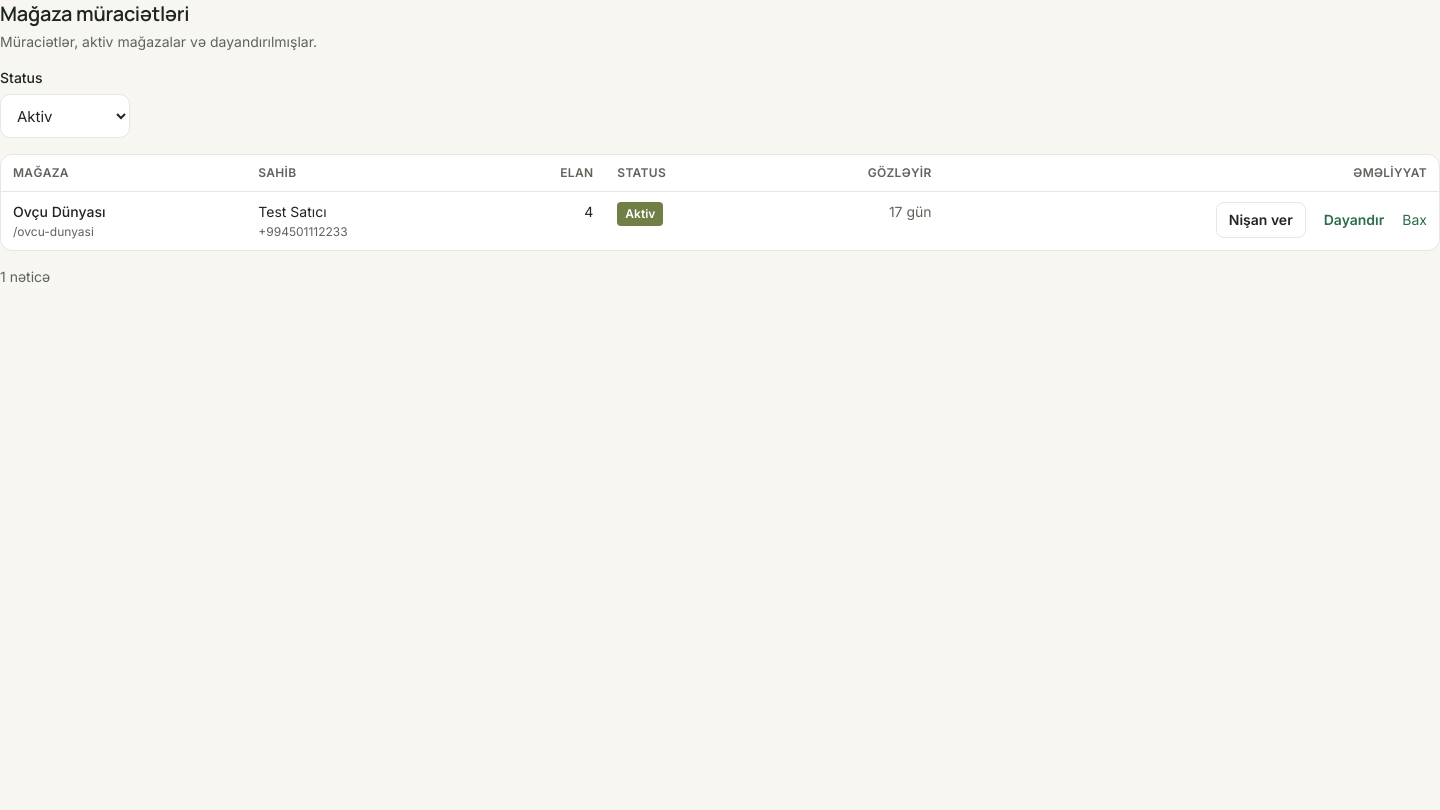
Test case: AdminStoresPage › says what suspension actually does before it does it
Click the button "Dayandır".
click(1354, 220)  # box [1312,202,1396,238]
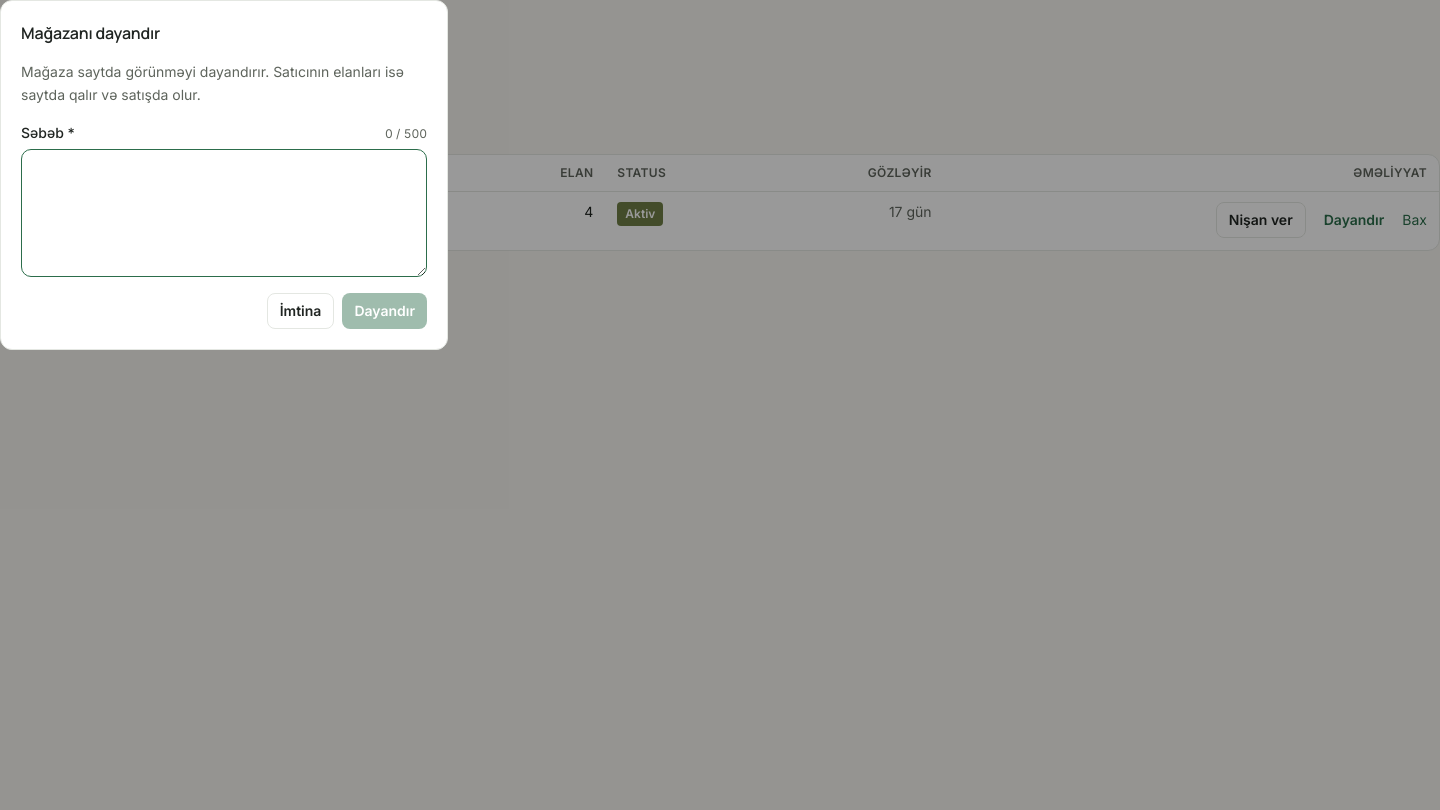
expect the dialog "Mağazanı dayandır" shows "Satıcının elanları isə saytda qalır": met, box [21,63,404,103]
expect the button "Dayandır" is disabled: met, box [342,292,427,328]
